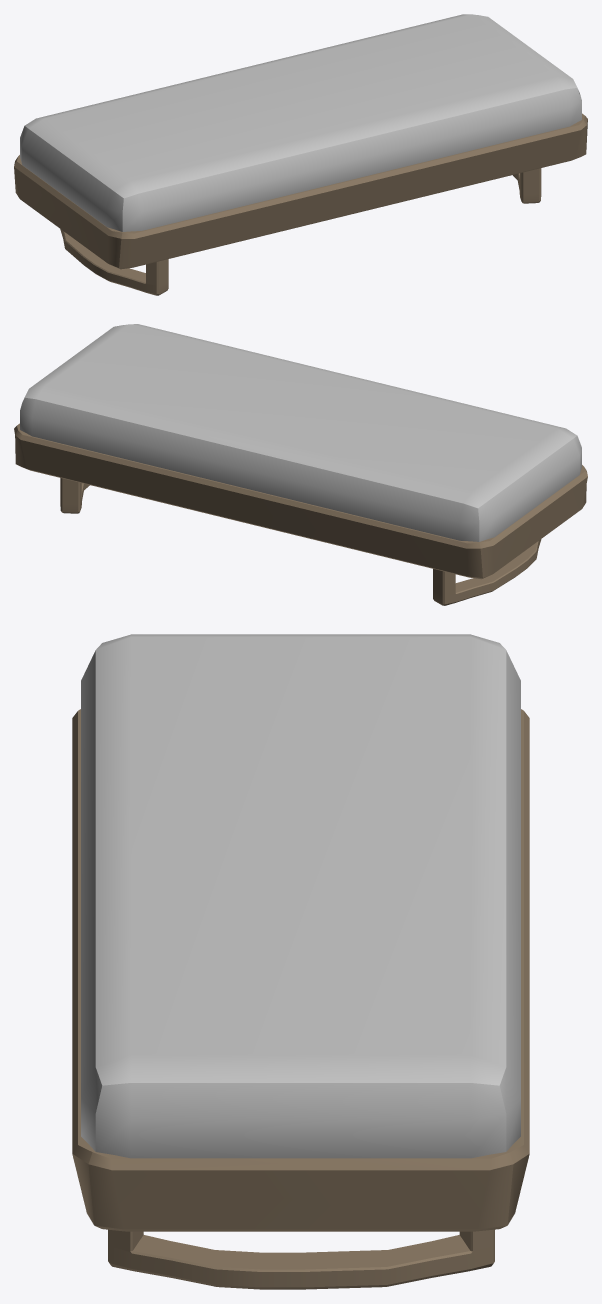
The model's file is bed_NEW_nonuv.fbx.
The picture shows the model from 3 angles, top to bottom: view 1: azimuth 30°, elevation 25°; view 2: azimuth 150°, elevation 25°; view 3: azimuth 270°, elevation 25°; orthographic projection. The views are drawn at different scales.
Parts seen in each view (by area): view 1: bed1; view 2: bed1; view 3: bed1.
Boxes of the visible parts, left/top/right/bottom form: bed1: left=14, top=14, right=587, bottom=295; bed1: left=14, top=324, right=587, bottom=605; bed1: left=72, top=634, right=529, bottom=1289.
Bounding box in the file's own units: 2.59 × 0.604 × 1.07.
